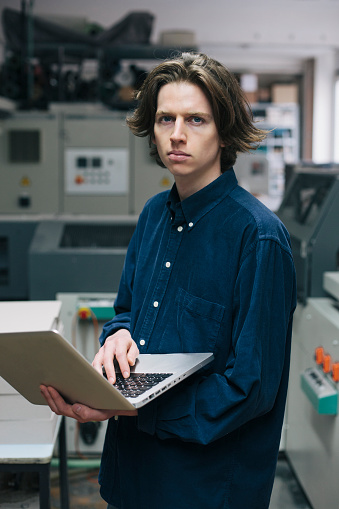em pe: (61, 55, 292, 509)
